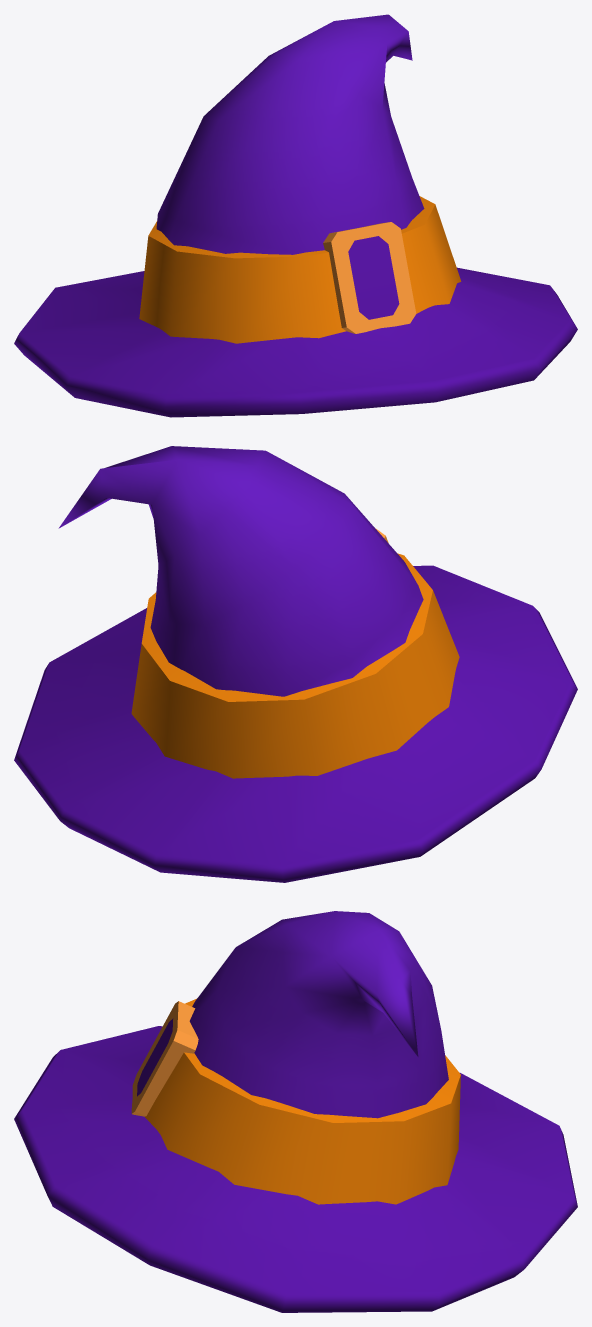
The model's file is Headgear_47.fbx.
3 renders of one model, top to bottom at view 1: azimuth 30°, elevation 25°; view 2: azimuth 150°, elevation 25°; view 3: azimuth 270°, elevation 25°, orthographic. The views are drawn at different scales.
Parts seen in each view (by area): view 1: Headgear_47; view 2: Headgear_47; view 3: Headgear_47.
Part boxes in pixels (x1,y1,x2,y2): Headgear_47: (14,14,577,417); Headgear_47: (14,446,577,882); Headgear_47: (14,911,577,1312).
Bounding box in the file's own units: 117 × 73.3 × 114.
